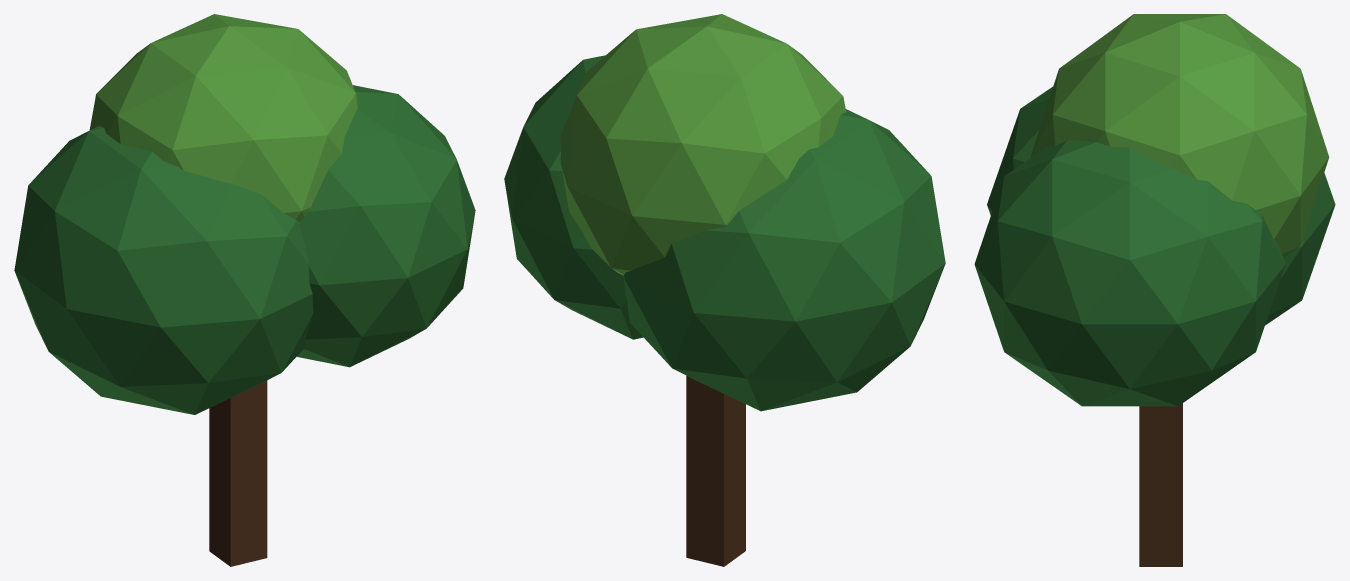
The model's file is garden_tree.glb.
3 views of the same model, side by side, from view 1: azimuth 30°, elevation 25°; view 2: azimuth 150°, elevation 25°; view 3: azimuth 270°, elevation 25° (orthographic). The views are drawn at different scales.
Parts seen in each view (by area): view 1: Foliage, Trunk; view 2: Foliage, Trunk; view 3: Foliage, Trunk.
Part boxes in pixels (x1,y1,x2,y2): Foliage: (14, 14, 475, 414); Trunk: (209, 380, 267, 566); Foliage: (504, 14, 945, 411); Trunk: (686, 375, 745, 566); Foliage: (974, 14, 1335, 406); Trunk: (1139, 403, 1182, 566).
Size of the model in its own units: 7.55 by 9.5 by 5.8.
